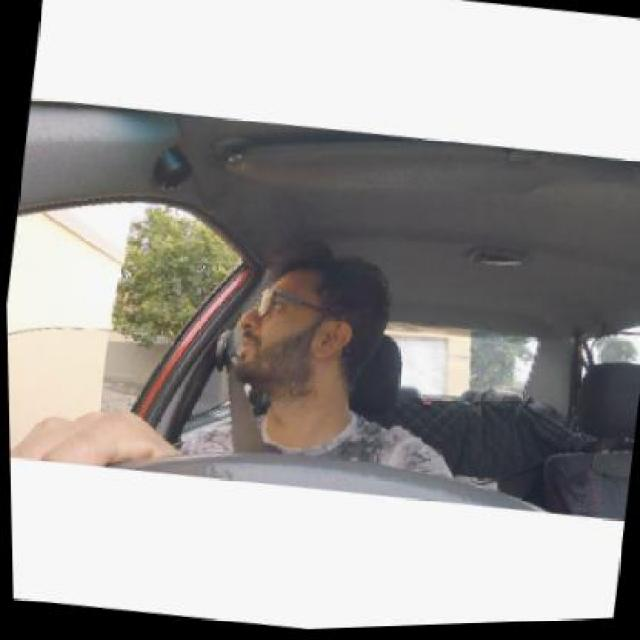LeftRight: (232, 242, 382, 389)
